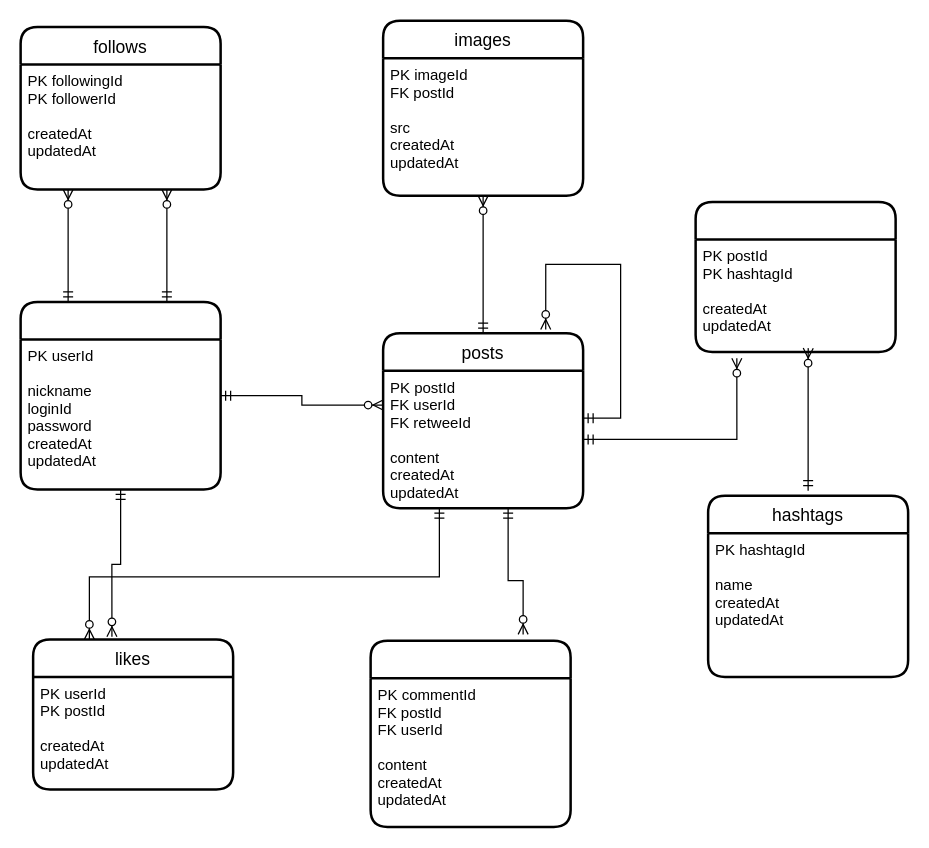
Image size: 929x848. Some labels were removed from this diagram. Each missing label, with the box of its shape:
comments: (369, 639, 571, 828)
postHashtags: (694, 200, 896, 352)
users: (19, 300, 221, 490)
